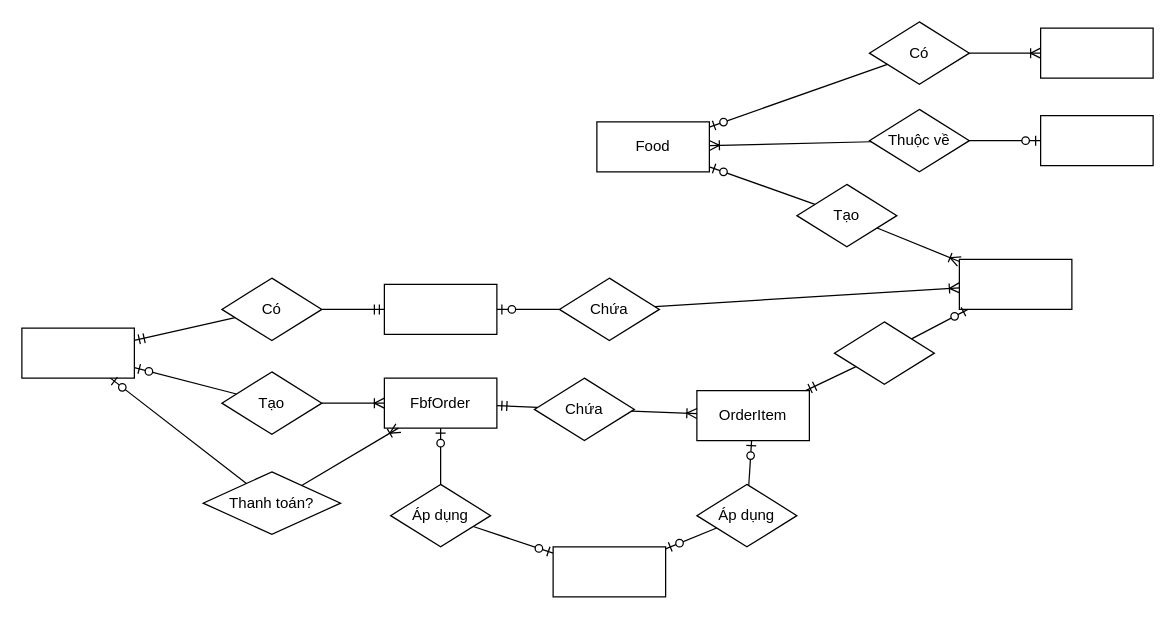
The diagram is 1175 pixels wide and 619 high, and some of its shapes have lost their labels. The shapes that lost their labels are listed below. From the top down, each one's centre as x and y in pixels, then its label:
[1096,52]: FoodSize
[1096,140]: Category
[1015,283]: CartItem
[440,308]: Cart
[77,352]: FbfUser
[883,352]: Được tạo từ
[609,571]: DiscountCode
